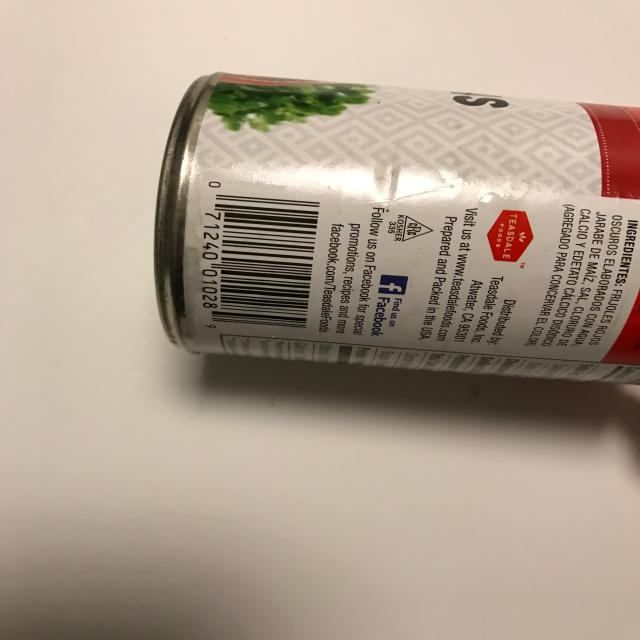metal: (153, 70, 639, 385)
